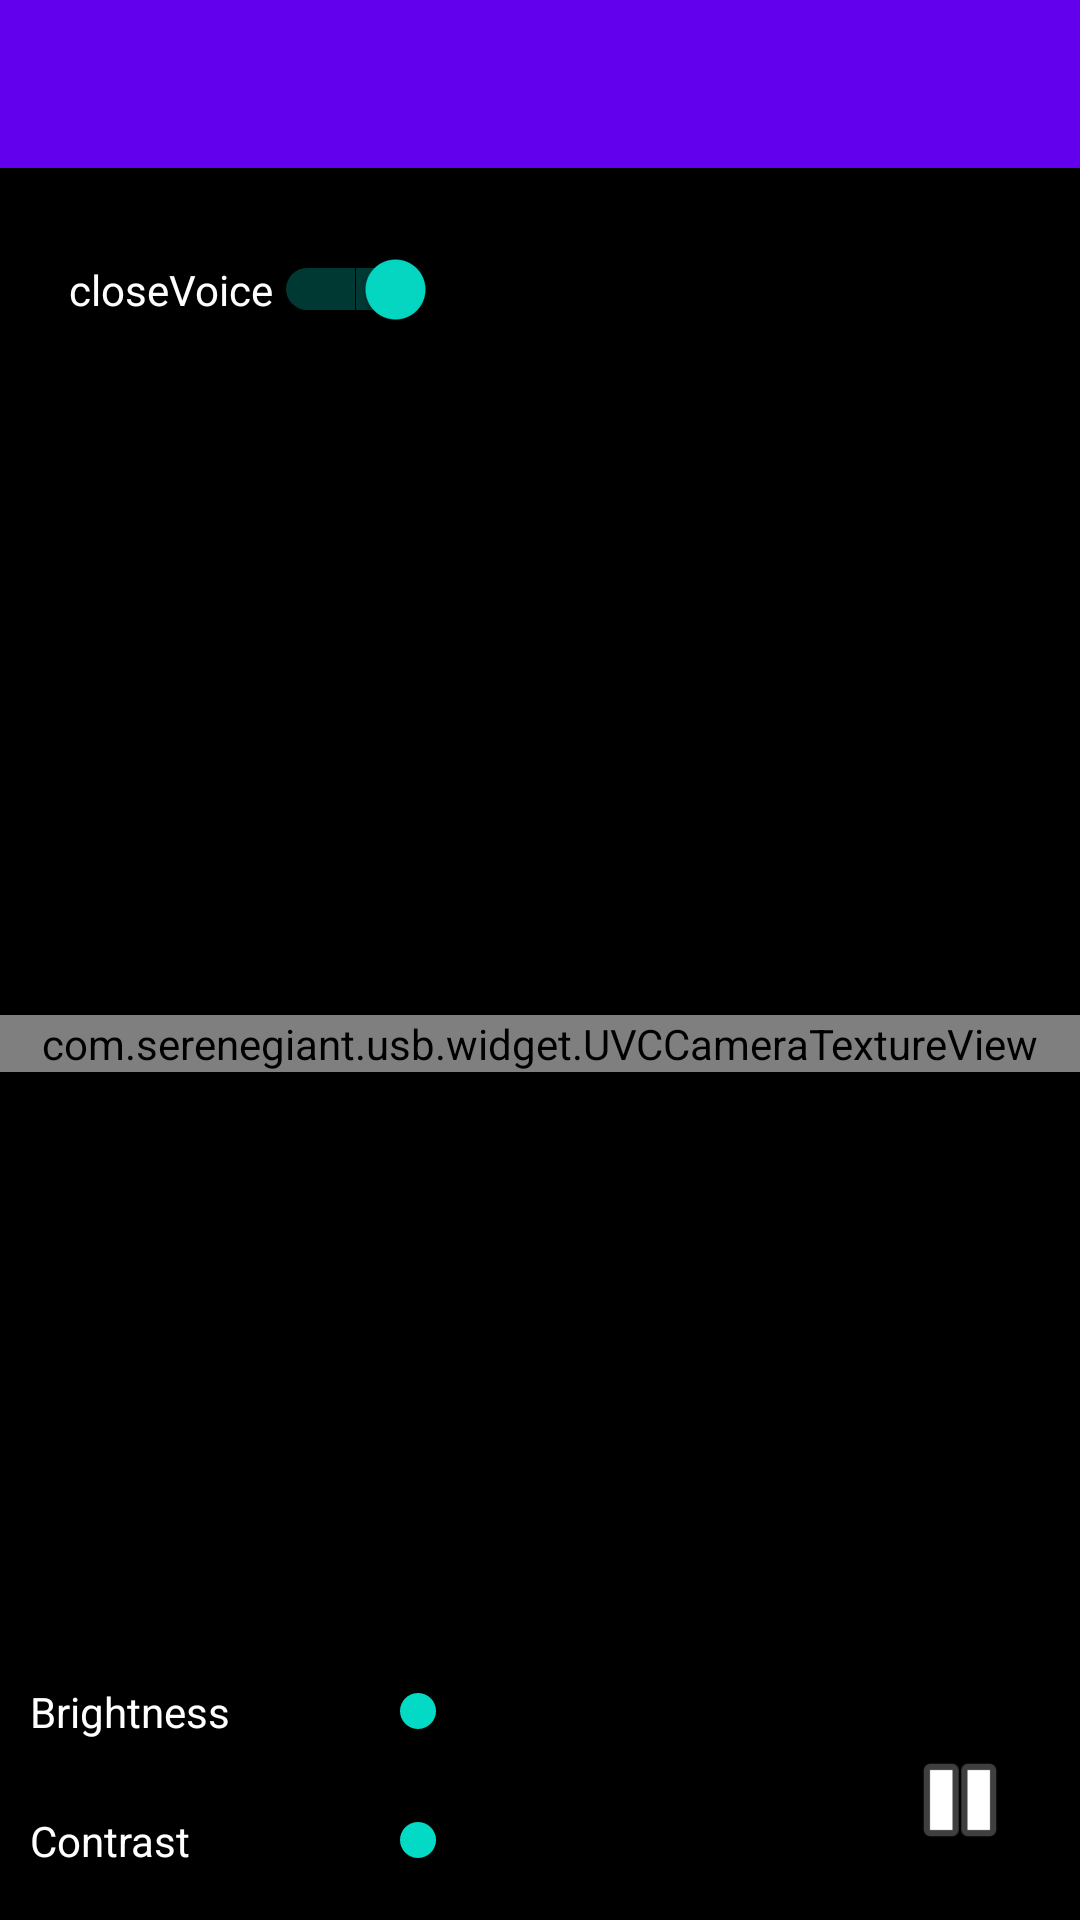

Screen size 1080 x 1920. Icon name, then its center in pixels as (x,y):
pause: (960,1800)
